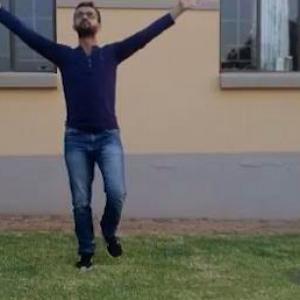takeoff: (0, 0, 219, 278)
